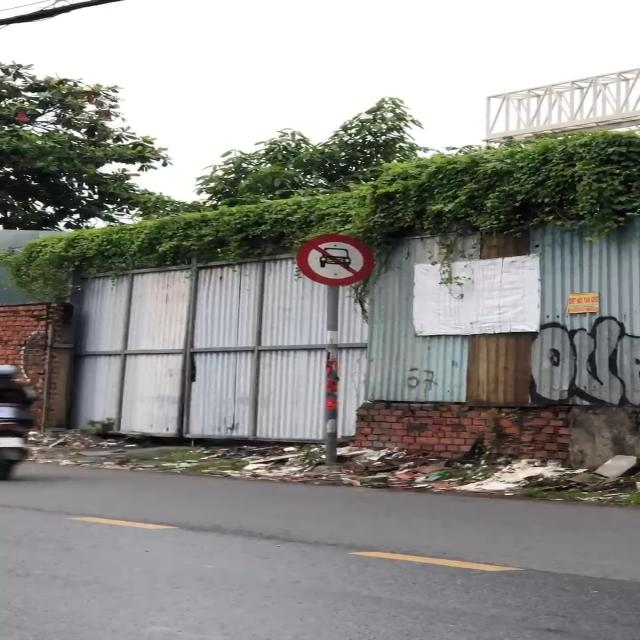Bien bao cam xe oto: (293, 232, 377, 286)
